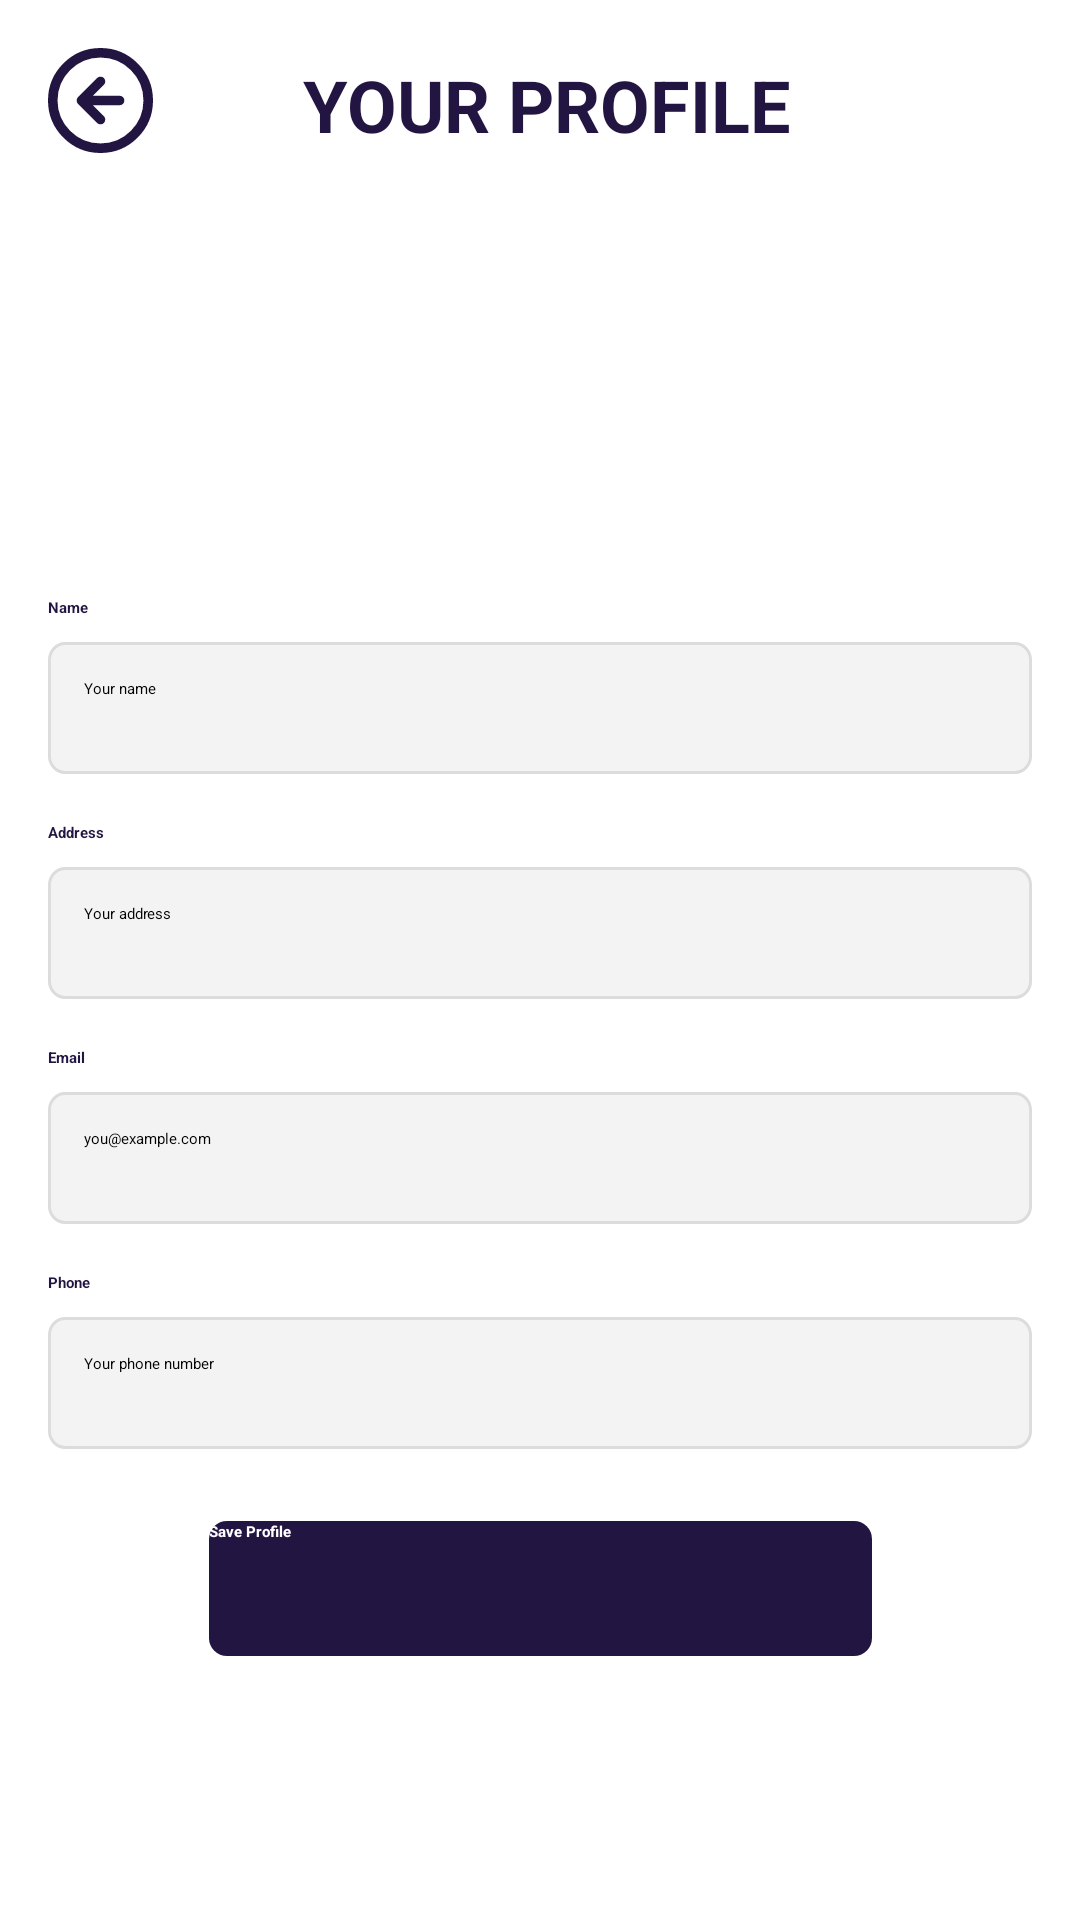

Where to tap for icons on this 1080 × 1920 app screen, as (x,y):
arrow left: (100,100)
